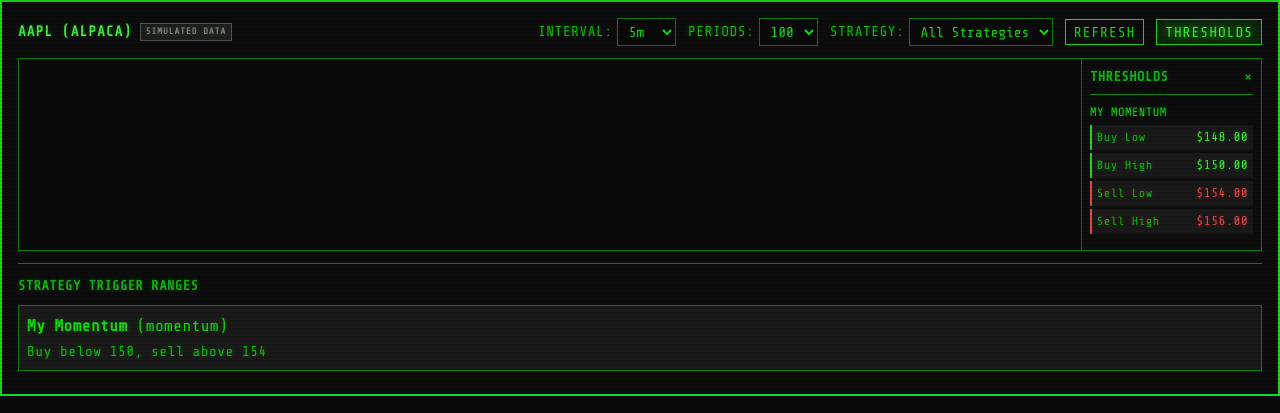
Test: CandlestickChart › shows thresholds panel again when toggled back on
Expected: the text "$148.00" is shown, [1196,128,1248,147]
// Toggle off then on
Click the button "Thresholds" at (1209, 32), box [1156,19,1262,45]
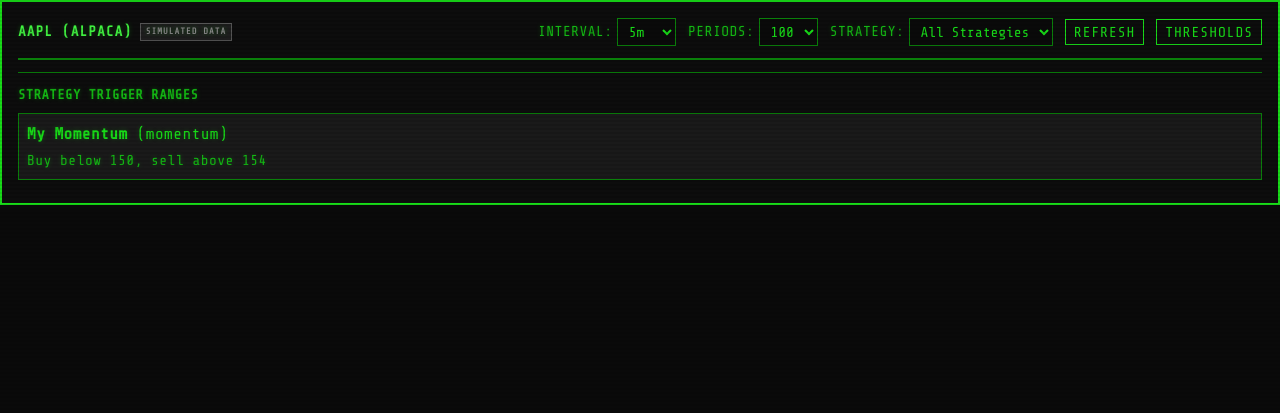
Now the text "$148.00" is gone
Click the button "Thresholds" at (1209, 32), box [1156,19,1262,45]
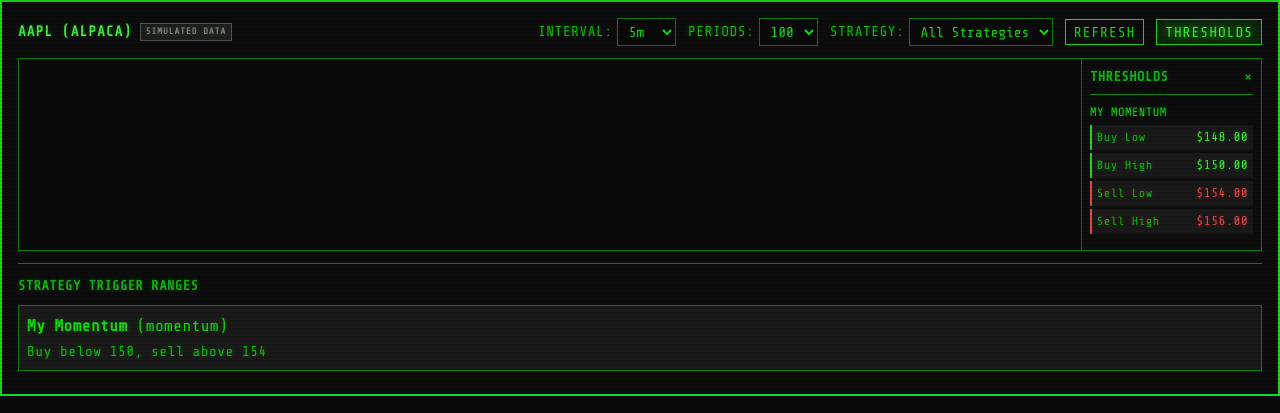
Now the text "$148.00" is shown, box [1196,128,1248,147]
